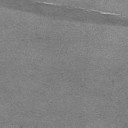finishing roll printing: (36, 1, 120, 16)
